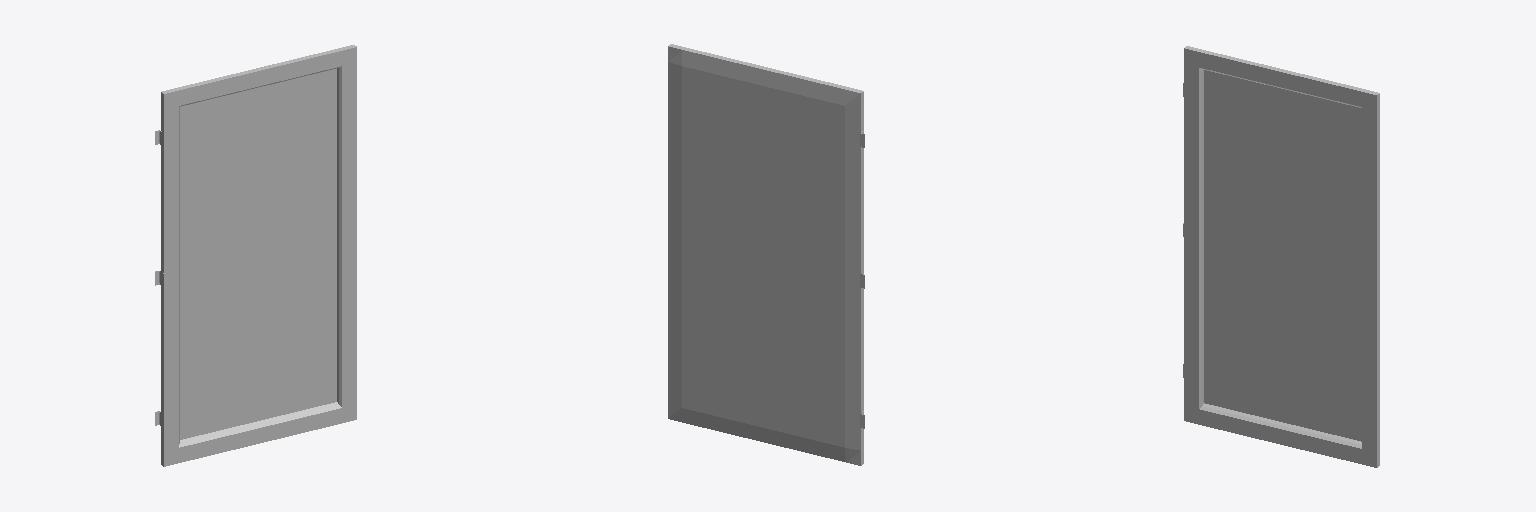
The model's file is windowLeft.obj.
3 renders of one model, left to right at view 1: azimuth 30°, elevation 25°; view 2: azimuth 150°, elevation 25°; view 3: azimuth 330°, elevation 25°, orthographic.
Bounding box in the file's own units: 4.06 × 7.29 × 0.1539.